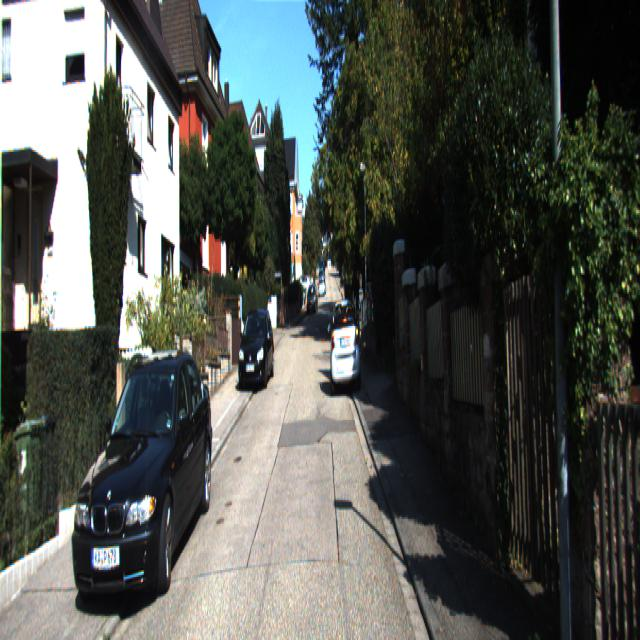Car: (68, 342, 216, 610), (236, 307, 276, 391), (330, 290, 361, 391)
